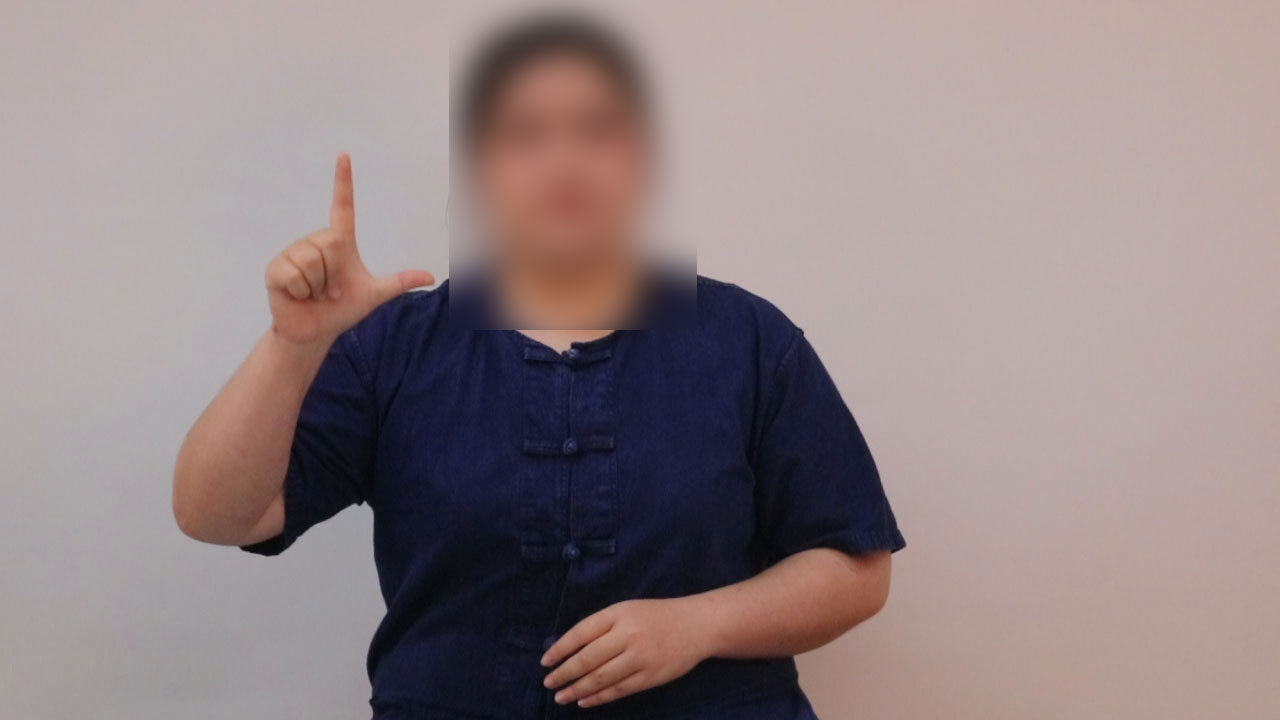lor: (224, 139, 456, 343)
